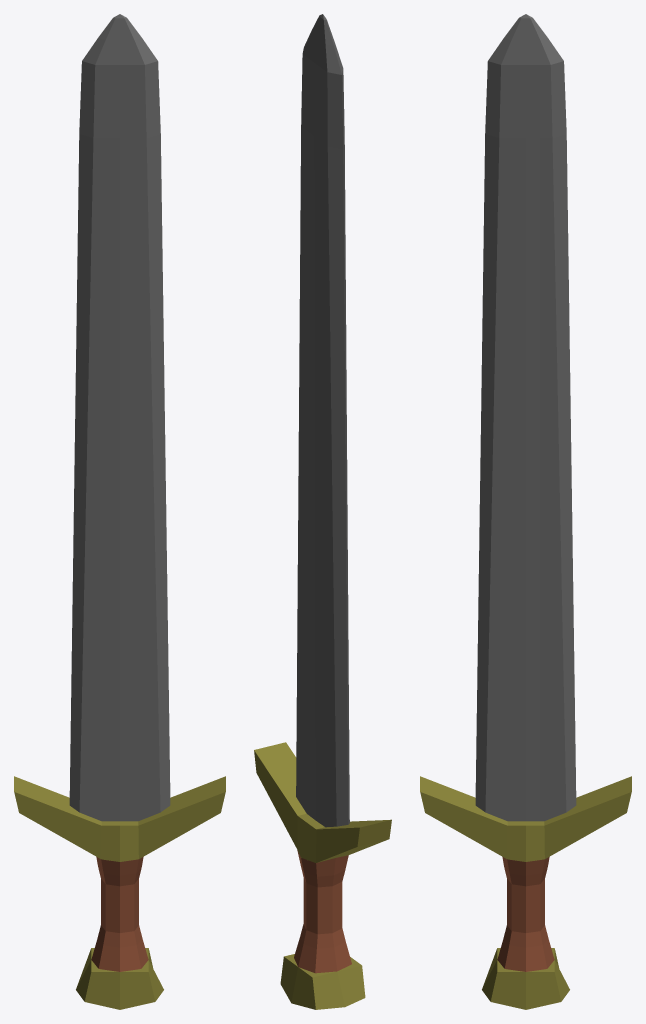
Rendered from Sword.fbx.
3 renders of one model, left to right at view 1: azimuth 90°, elevation 25°; view 2: azimuth 210°, elevation 25°; view 3: azimuth 270°, elevation 25°, orthographic.
Visible parts, largest first — view 1: Sword; view 2: Sword; view 3: Sword.
Boxes of the visible parts, box(x1,y1,x2,y2) form: Sword: box(14, 14, 225, 1009); Sword: box(254, 14, 391, 1009); Sword: box(420, 14, 631, 1009).
Bounding box in the file's own units: 6.77 × 100 × 19.65.
